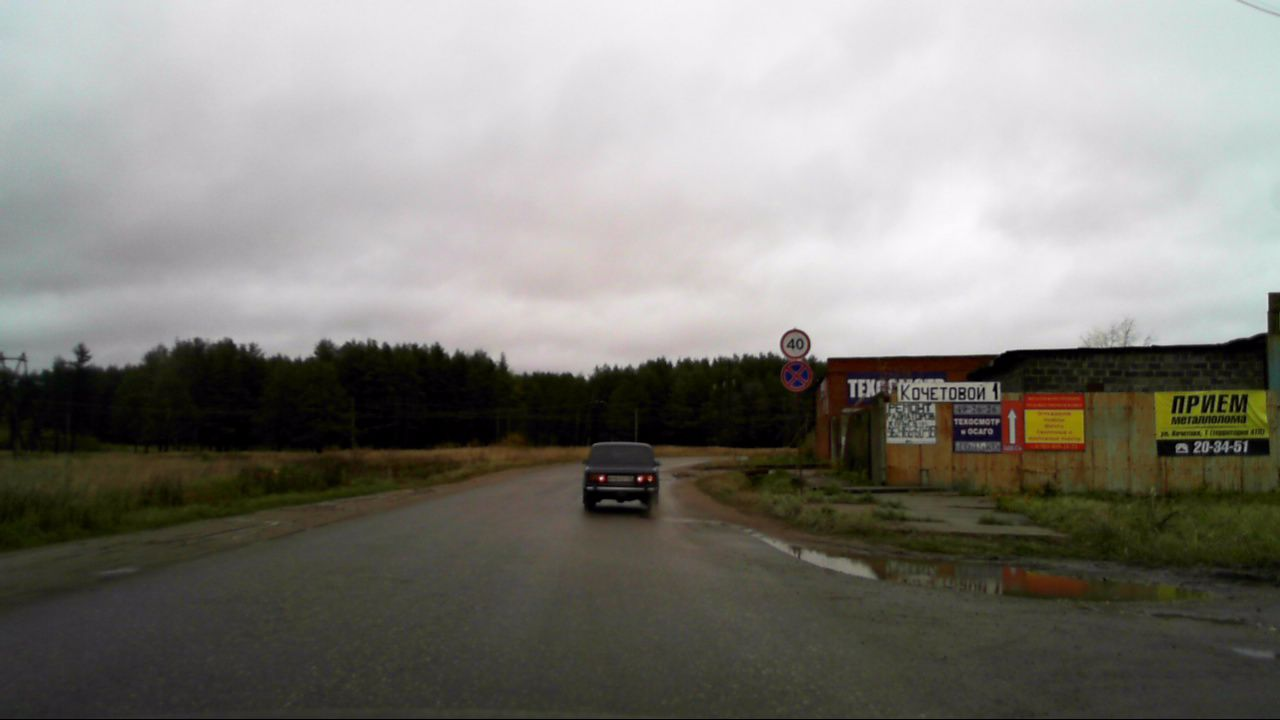No Parking: (781, 359, 813, 391)
speed_warning_40: (780, 329, 810, 359)
